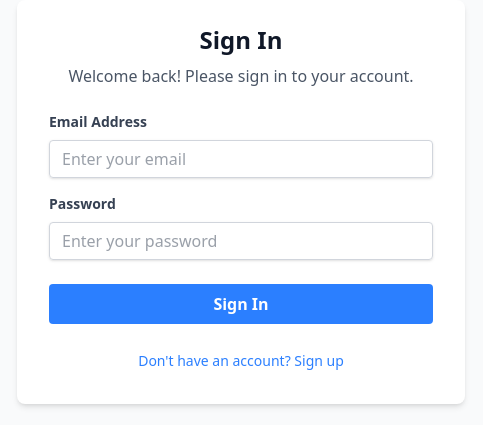
LoginForm › disables submit button when submitting
In the field labelled "Email Address": coordinates (241, 159) x1=49 y1=140 x2=433 y2=178, type "test@example.com"
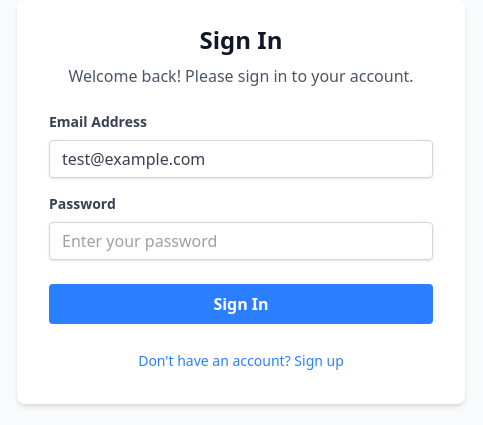
In the password field labelled "Password": coordinates (241, 241) x1=49 y1=222 x2=433 y2=260, type "password123"
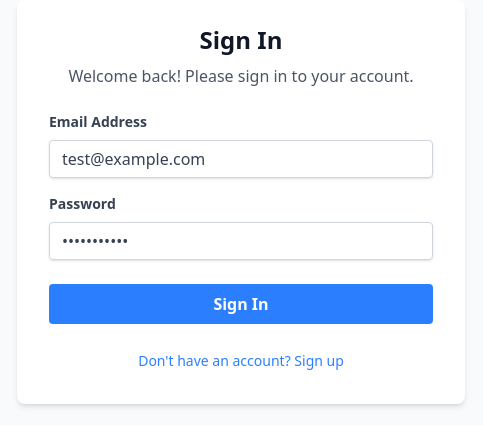
Click the button "Sign In": coordinates (241, 304) x1=49 y1=284 x2=433 y2=324
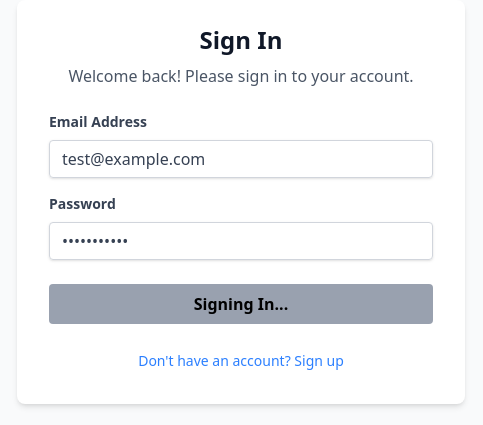
Now the button named "sign in" is disabled, box x1=49 y1=284 x2=433 y2=324
Now the button named "sign in" shows "Signing In", box x1=49 y1=284 x2=433 y2=324
